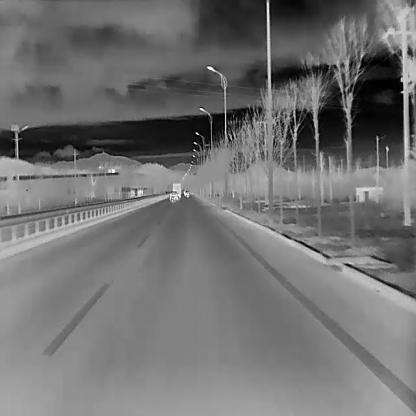car: (172, 182, 180, 197), (169, 190, 178, 200), (184, 189, 188, 197)
